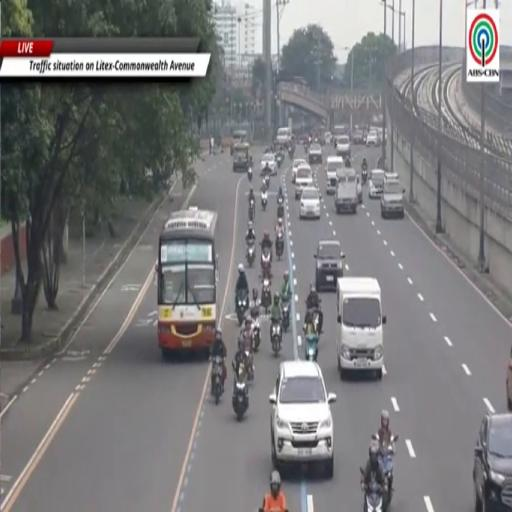bus: (156, 207, 218, 356)
car: (270, 360, 336, 478), (473, 412, 511, 511), (315, 240, 344, 291), (381, 180, 404, 218), (300, 186, 320, 219), (295, 164, 313, 200), (232, 143, 250, 171), (369, 169, 384, 199), (231, 131, 247, 155), (261, 153, 277, 175), (292, 158, 306, 183), (336, 136, 350, 157), (309, 143, 322, 165), (276, 127, 291, 146), (507, 348, 511, 411), (366, 131, 380, 147), (353, 131, 365, 145), (357, 174, 362, 203), (385, 171, 399, 181), (324, 132, 332, 145)
motorcycle: (379, 435, 398, 504), (233, 366, 248, 421), (364, 482, 383, 511), (212, 356, 223, 405), (236, 291, 248, 325), (261, 278, 272, 314), (307, 309, 320, 337), (271, 322, 281, 356), (306, 333, 318, 361), (261, 248, 271, 280), (252, 317, 260, 353), (246, 350, 254, 381), (282, 300, 290, 331), (246, 241, 255, 268), (276, 232, 284, 260), (277, 198, 284, 219), (249, 199, 255, 221), (261, 191, 267, 211), (277, 152, 284, 168), (264, 173, 270, 188), (248, 167, 253, 182), (362, 169, 367, 184), (288, 147, 294, 159), (258, 508, 264, 511)
truck: (337, 278, 386, 379), (334, 168, 358, 213), (326, 156, 344, 195)
